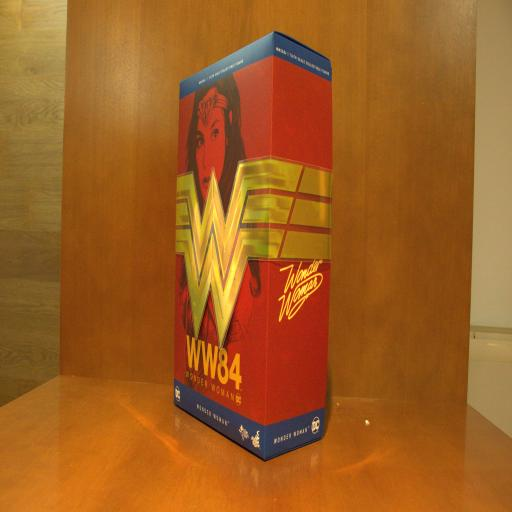WonderWoman: (172, 30, 334, 464)
